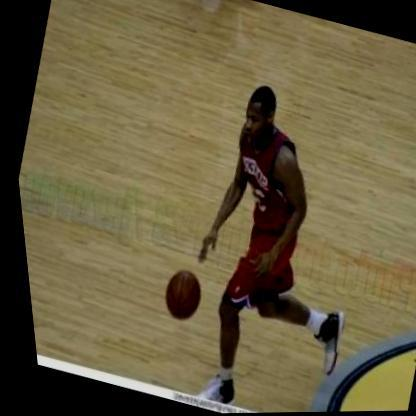basketball: (142, 261, 210, 330)
